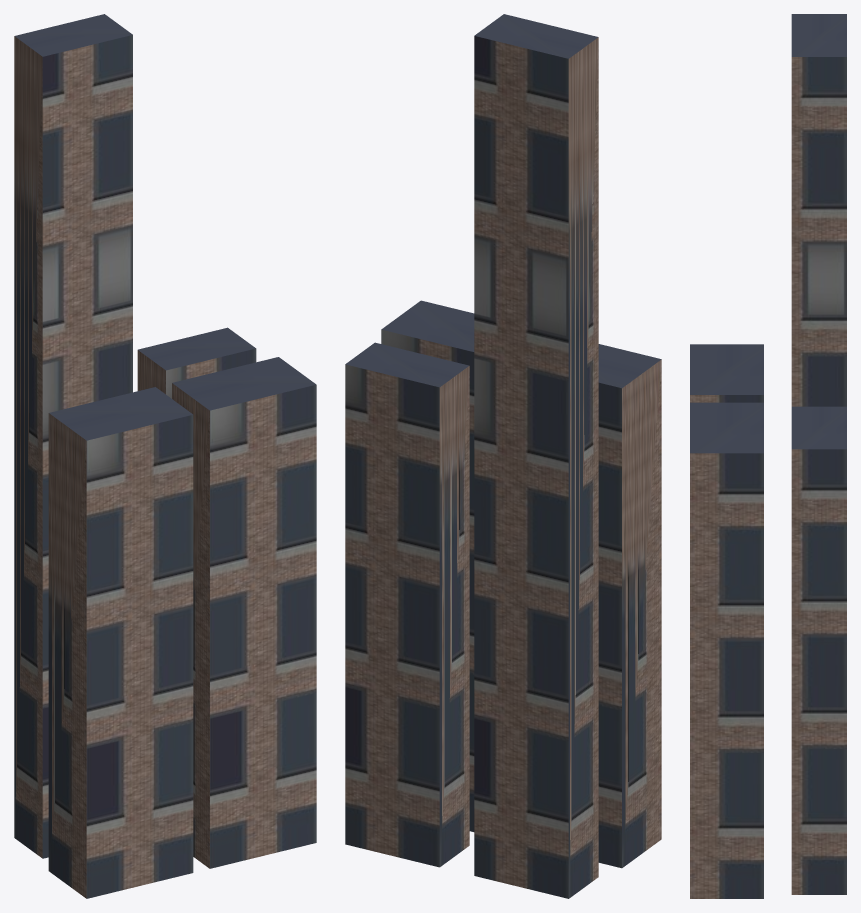
File: block_01.obj
3 renders of one model, left to right at view 1: azimuth 30°, elevation 25°; view 2: azimuth 150°, elevation 25°; view 3: azimuth 270°, elevation 25°, orthographic. The views are drawn at different scales.
Visible parts, largest first — view 1: b1, b3, b0, b2; view 2: b0, b2, b1, b3; view 3: b3, b2, b0, b1.
Part boxes in pixels (x1,y1,x2,y2): b1: [48, 387, 193, 898]; b3: [172, 357, 316, 868]; b0: [14, 14, 132, 858]; b2: [137, 327, 256, 398]; b0: [474, 14, 598, 898]; b2: [345, 342, 469, 867]; b1: [598, 344, 661, 868]; b3: [381, 300, 474, 831]; b3: [690, 402, 763, 898]; b2: [791, 406, 846, 894]; b0: [791, 14, 846, 406]; b1: [690, 344, 763, 402].
Bounding box in the file's own units: 4.2 × 14 × 2.55.
